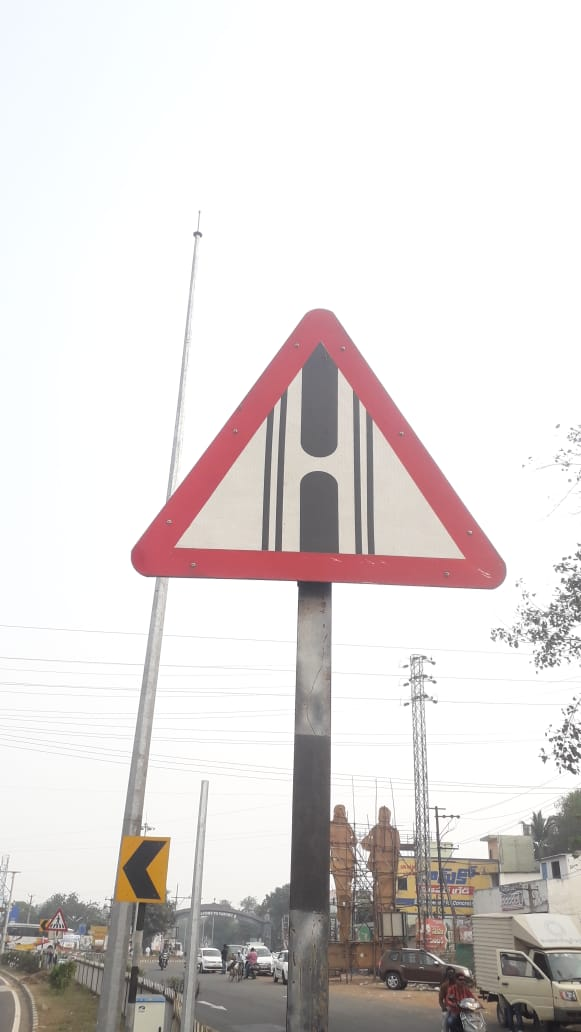highway go straight: (124, 290, 531, 606)
